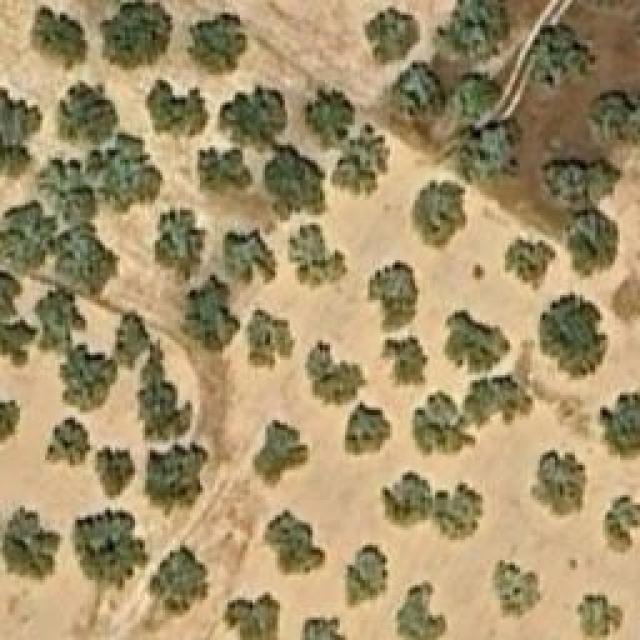Tree: (540, 292, 610, 380), (73, 510, 148, 590), (93, 133, 163, 209), (182, 273, 240, 356), (0, 505, 62, 582), (137, 357, 195, 439), (38, 155, 106, 224), (442, 0, 510, 68), (145, 443, 208, 516), (303, 340, 368, 408), (413, 390, 476, 458), (263, 147, 326, 215), (50, 225, 116, 289), (445, 310, 510, 373), (150, 545, 210, 613), (252, 420, 310, 490), (148, 78, 211, 141), (105, 3, 168, 66), (458, 120, 521, 183), (60, 342, 118, 410), (288, 223, 348, 288), (58, 80, 118, 145), (368, 260, 421, 333), (188, 13, 248, 76), (265, 510, 325, 573), (530, 450, 588, 515), (155, 208, 205, 283), (0, 85, 40, 178), (565, 210, 618, 280), (528, 27, 591, 85), (470, 372, 533, 430), (0, 203, 56, 266), (33, 8, 88, 71), (410, 183, 465, 243), (540, 157, 608, 205), (338, 130, 388, 195), (493, 558, 546, 618), (597, 389, 640, 462), (342, 543, 390, 608), (223, 227, 276, 285), (395, 582, 448, 640), (365, 7, 418, 65), (393, 65, 443, 125), (383, 473, 435, 530), (33, 287, 76, 355), (228, 90, 278, 148), (505, 238, 558, 291), (250, 310, 298, 368), (225, 592, 283, 640), (585, 95, 640, 145), (433, 488, 483, 543), (305, 93, 353, 148), (382, 335, 430, 388), (113, 302, 157, 359), (345, 400, 390, 455), (602, 495, 640, 555), (453, 73, 498, 123), (98, 445, 138, 500), (578, 592, 623, 640), (195, 150, 248, 190), (45, 417, 88, 465), (0, 312, 36, 364), (0, 270, 29, 317), (0, 390, 20, 455), (297, 617, 347, 640)
